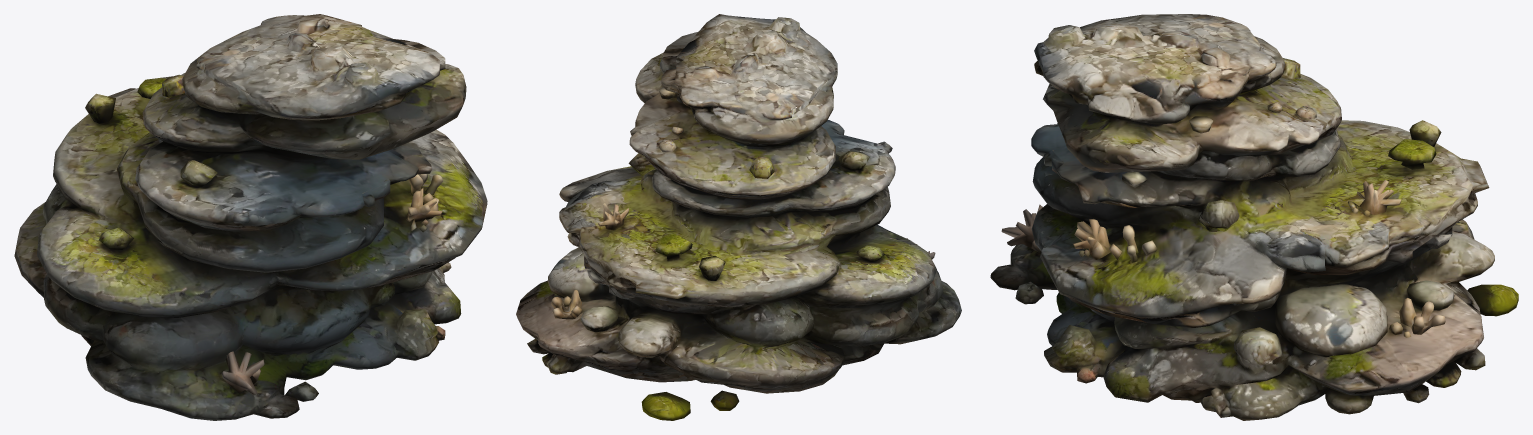
Rendered from Rock_B.fbx.
3 renders of one model, left to right at view 1: azimuth 30°, elevation 25°; view 2: azimuth 150°, elevation 25°; view 3: azimuth 270°, elevation 25°, orthographic. The views are drawn at different scales.
Visible parts, largest first — view 1: tripo_node_eb0445f2; view 2: tripo_node_eb0445f2; view 3: tripo_node_eb0445f2.
Part boxes in pixels (x1,y1,x2,y2): tripo_node_eb0445f2: (14,14,487,420); tripo_node_eb0445f2: (516,14,961,420); tripo_node_eb0445f2: (990,14,1518,420).
Bounding box in the file's own units: 0.9282 × 0.645 × 0.9995.
Materials: 1 (1 with a texture image).
